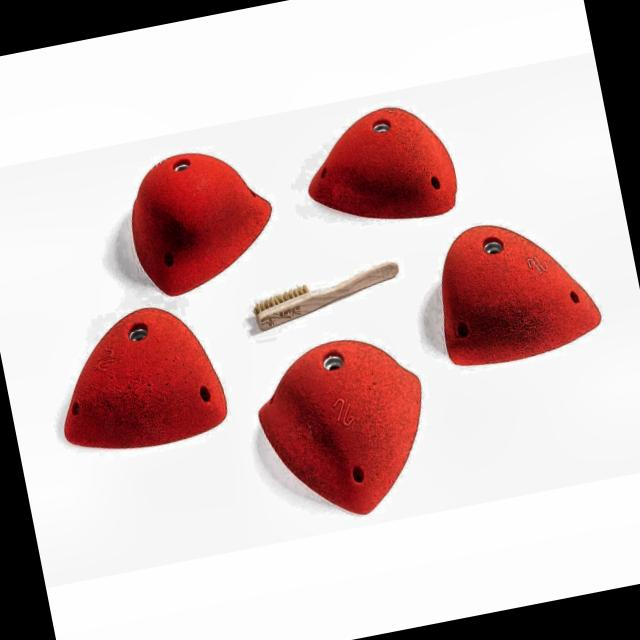Hold: (241, 319, 446, 533), (40, 293, 241, 463), (425, 200, 608, 371), (114, 136, 284, 303), (288, 94, 462, 238)
